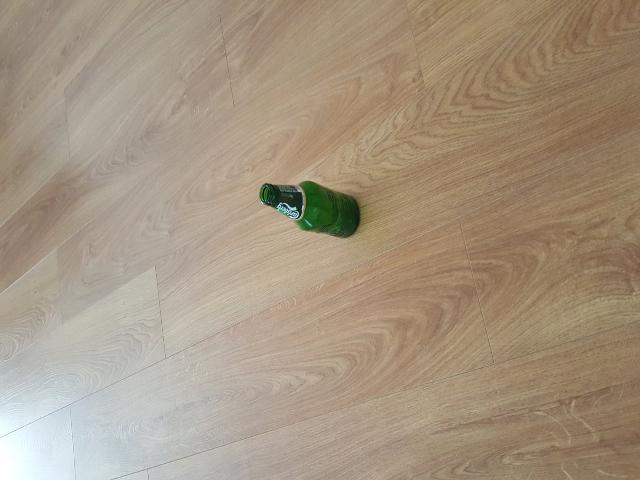beer: (258, 180, 360, 239)
